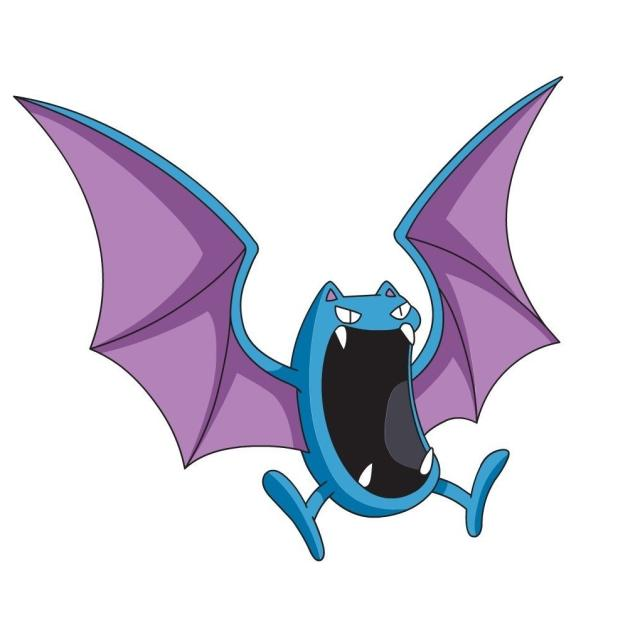Golbat: (209, 231, 517, 561)
